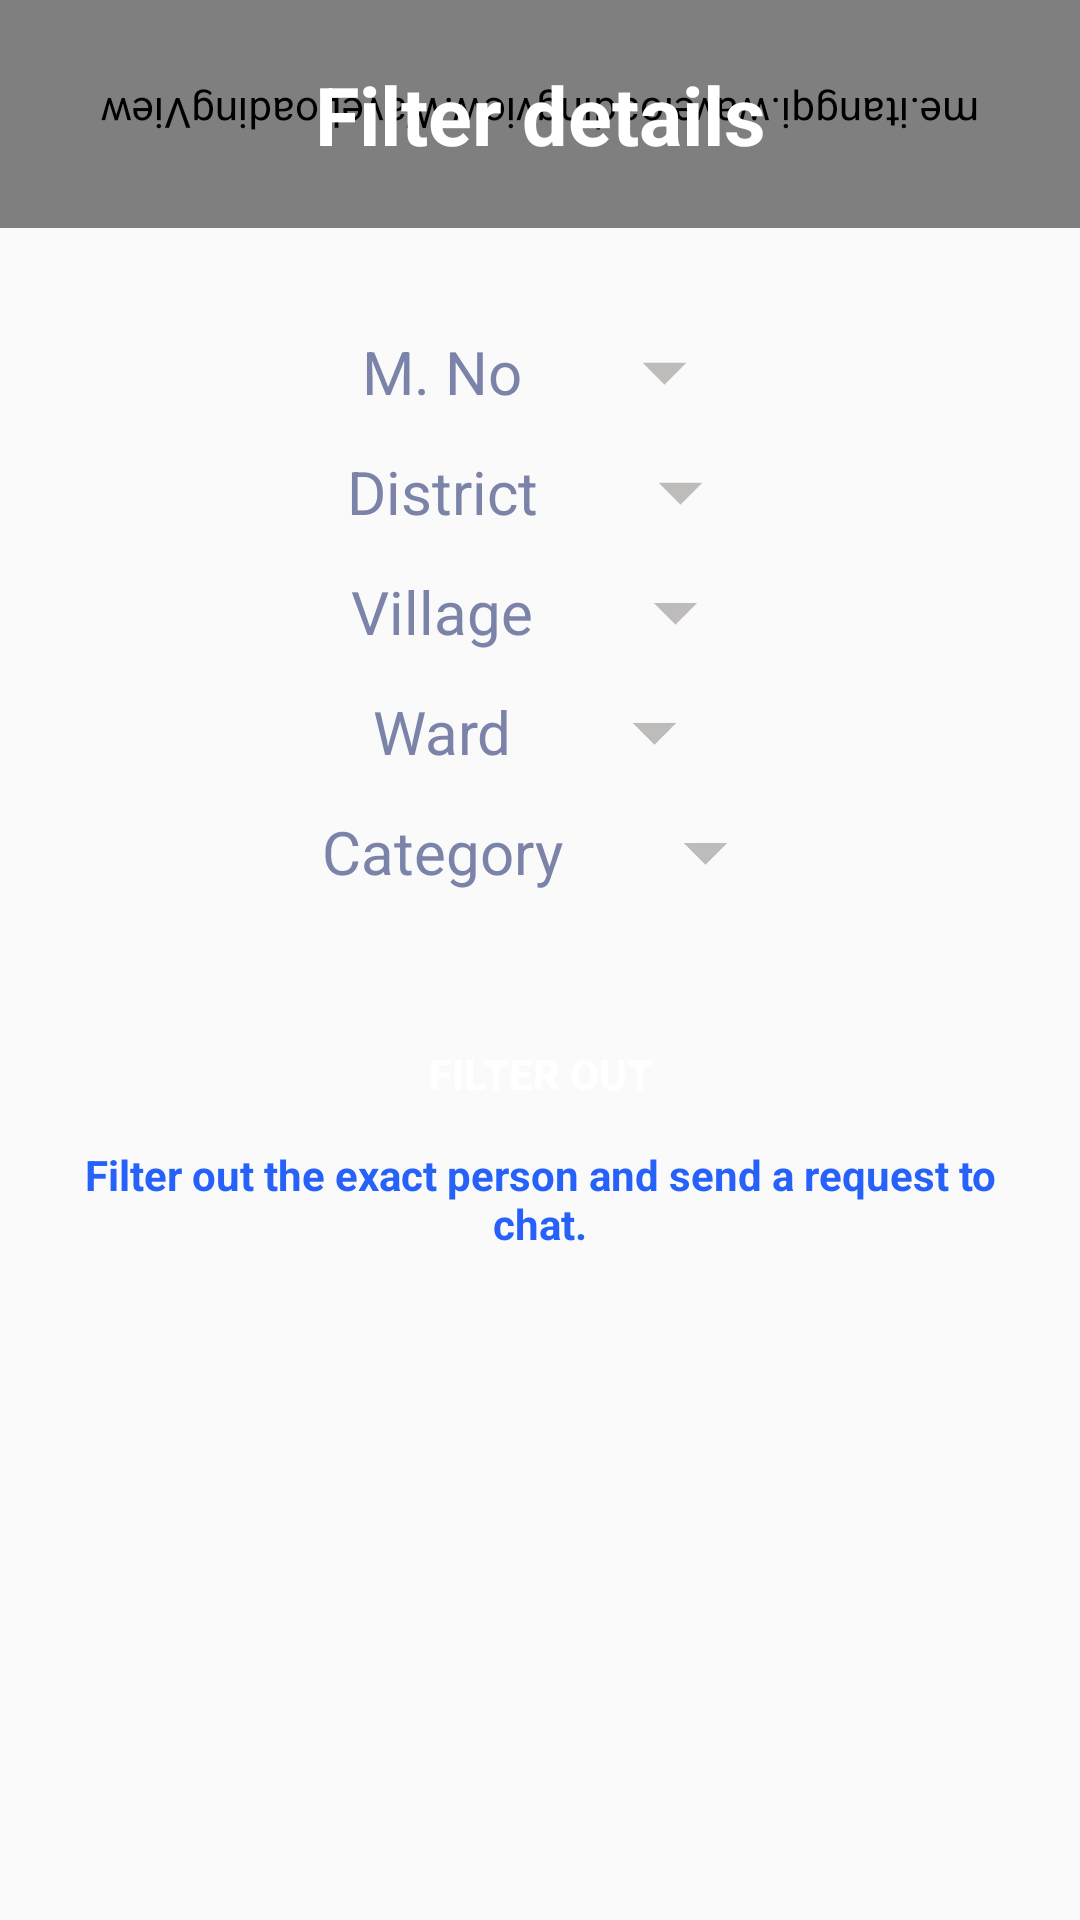

Where to tap for icons on this 1080px×1920px app screen, as (x,y):
arrow drop down: (664,374), (680,494), (675,614), (654,734), (705,854)
